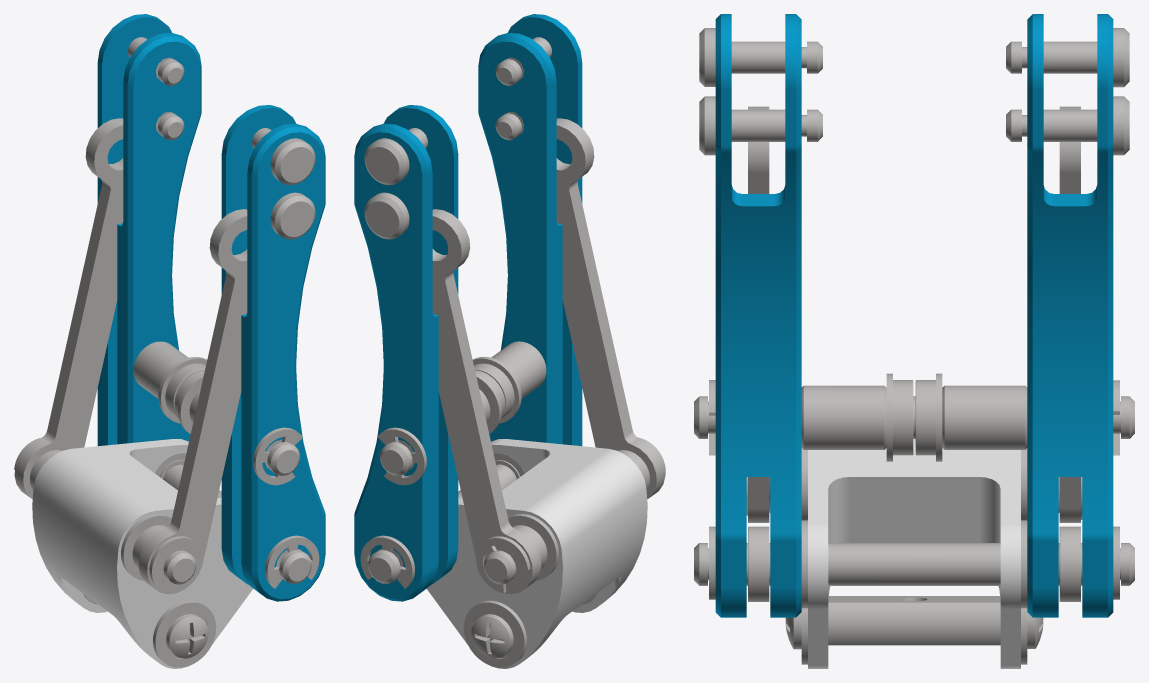
File: index_base.DAE
The picture shows the model from 3 angles, left to right: view 1: azimuth 30°, elevation 25°; view 2: azimuth 150°, elevation 25°; view 3: azimuth 270°, elevation 25°; orthographic projection. The views are drawn at different scales.
Parts seen in each view (by area): view 1: ソリッド4, ソリッド3, ソリッド10, ソリッド5, ソリッド2, ソリッド17, ソリッド9, ソリッド27, ソリッド8, ソリッド35, ソリッド16, ソリッド23 (+9 smaller); view 2: ソリッド3, ソリッド4, ソリッド10, ソリッド2, ソリッド5, ソリッド13, ソリッド6, ソリッド26, ソリッド7, ソリッド34, ソリッド18, ソリッド23 (+9 smaller); view 3: ソリッド3, ソリッド4, ソリッド10, ソリッド23, ソリッド1, ソリッド26, ソリッド27, ソリッド7, ソリッド8, ソリッド6, ソリッド9, ソリッド2 (+6 smaller).
Part boxes in pixels (x1,y1,x2,y2): ソリッド4: [221, 105, 325, 601]; ソリッド3: [97, 14, 201, 446]; ソリッド10: [32, 439, 253, 668]; ソリッド5: [138, 209, 247, 594]; ソリッド2: [14, 118, 123, 498]; ソリッド17: [153, 600, 216, 667]; ソリッド9: [252, 128, 315, 185]; ソリッド27: [133, 341, 187, 398]; ソリッド8: [270, 192, 315, 239]; ソリッド35: [166, 614, 208, 658]; ソリッド16: [158, 357, 207, 423]; ソリッド23: [163, 464, 311, 583]; ソリッド3: [354, 105, 458, 601]; ソリッド4: [478, 14, 582, 446]; ソリッド10: [426, 439, 647, 668]; ソリッド2: [432, 209, 541, 594]; ソリッド5: [556, 118, 665, 498]; ソリッド13: [463, 600, 526, 667]; ソリッド6: [364, 128, 427, 185]; ソリッド26: [491, 341, 546, 398]; ソリッド7: [364, 192, 409, 239]; ソリッド34: [471, 614, 513, 658]; ソリッド18: [472, 356, 521, 423]; ソリッド23: [368, 464, 516, 583]; ソリッド3: [1027, 14, 1113, 617]; ソリッド4: [715, 14, 801, 617]; ソリッド10: [808, 439, 1020, 668]; ソリッド23: [694, 543, 1134, 585]; ソリッド1: [828, 596, 1000, 645]; ソリッド26: [801, 385, 886, 449]; ソリッド27: [942, 385, 1027, 449]; ソリッド7: [1006, 96, 1129, 155]; ソリッド8: [699, 96, 822, 155]; ソリッド6: [1006, 28, 1129, 87]; ソリッド9: [699, 28, 822, 86]; ソリッド2: [1059, 106, 1080, 522].
Size of the model in its own units: 0.0235 by 0.041 by 0.0707.
